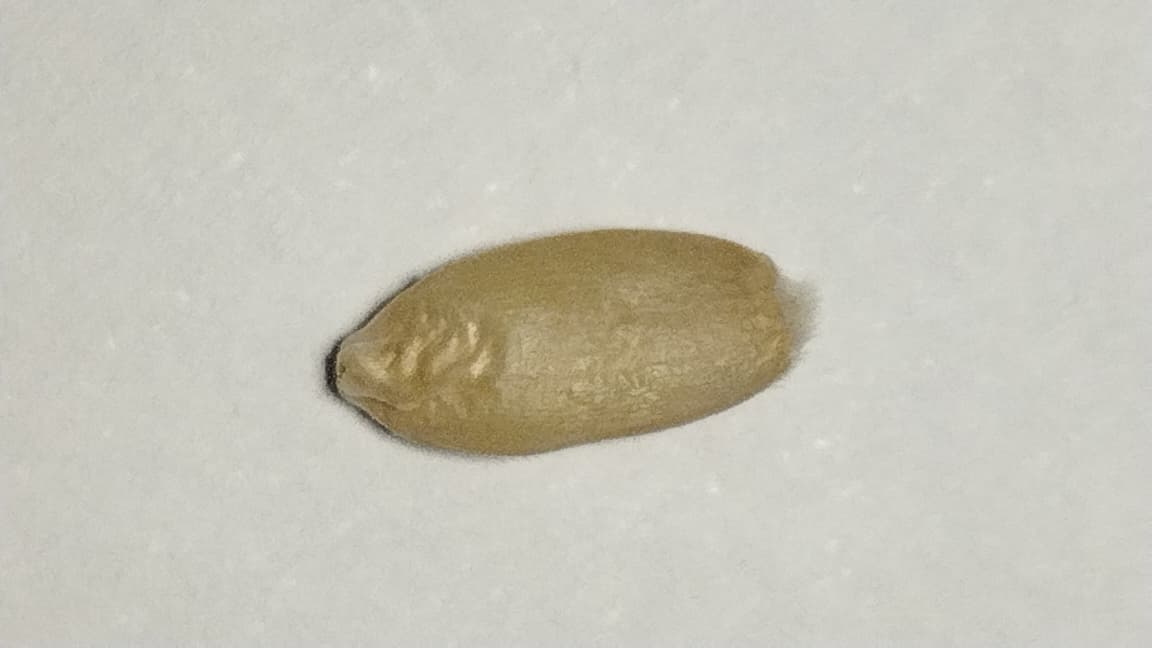healthy: (324, 229, 810, 456)
